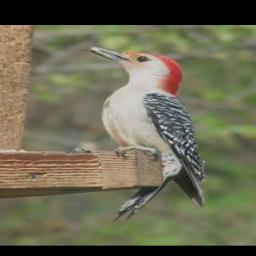Woodpecker: (81, 44, 204, 222)
